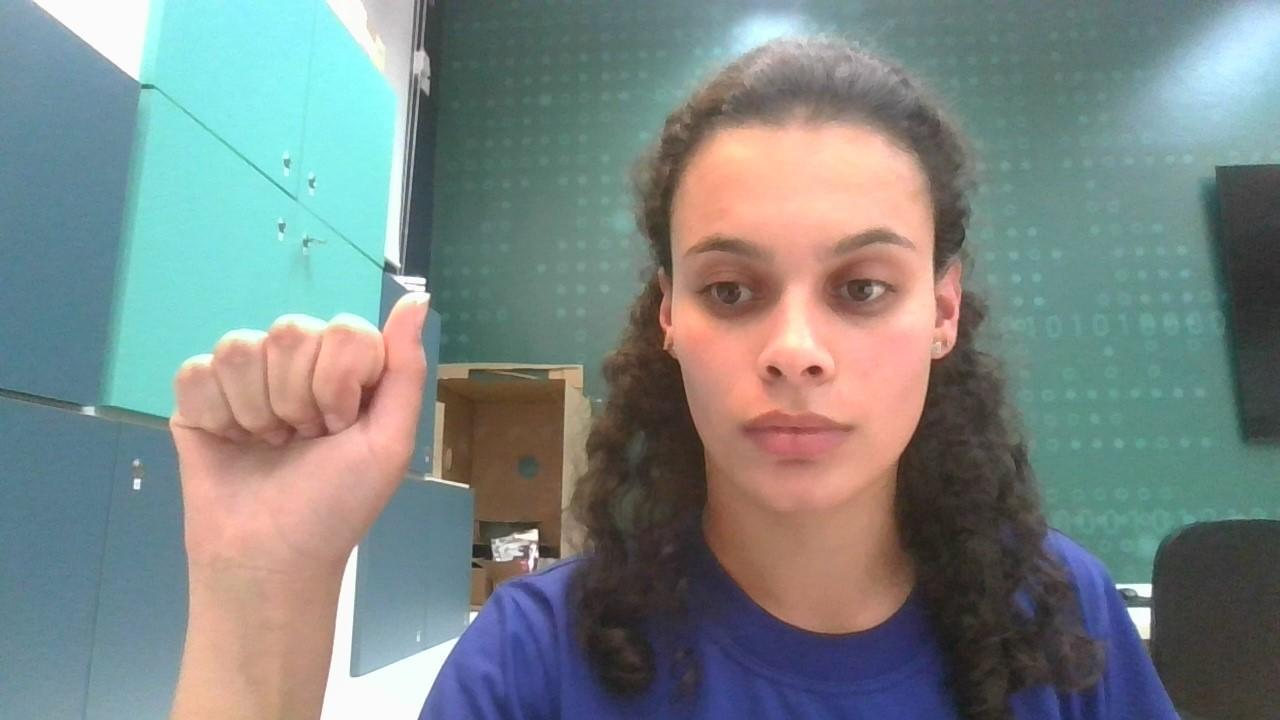A: (155, 282, 450, 592)
